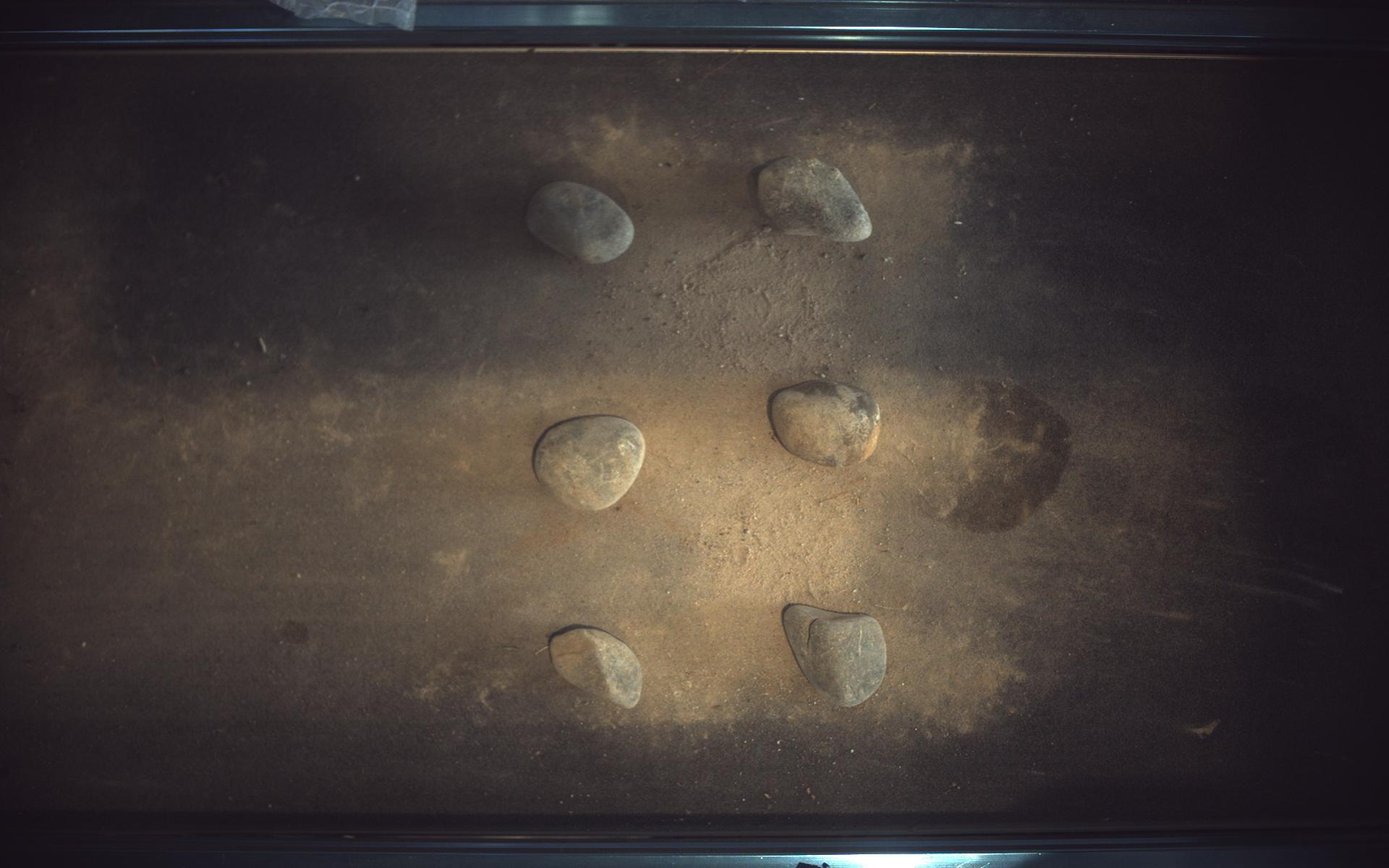stone: (534, 415, 647, 512), (783, 605, 888, 708), (770, 378, 883, 467), (759, 156, 873, 242), (527, 180, 635, 263), (549, 627, 644, 709)
